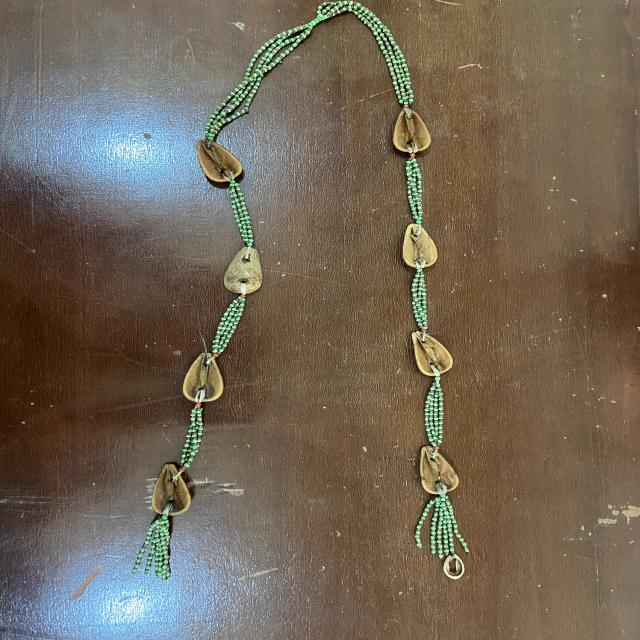facedown: (221, 242, 265, 297)
faceup: (193, 135, 246, 191), (179, 349, 227, 404), (412, 444, 462, 496), (388, 104, 435, 159), (150, 460, 193, 520), (408, 329, 456, 381), (397, 221, 442, 274)
